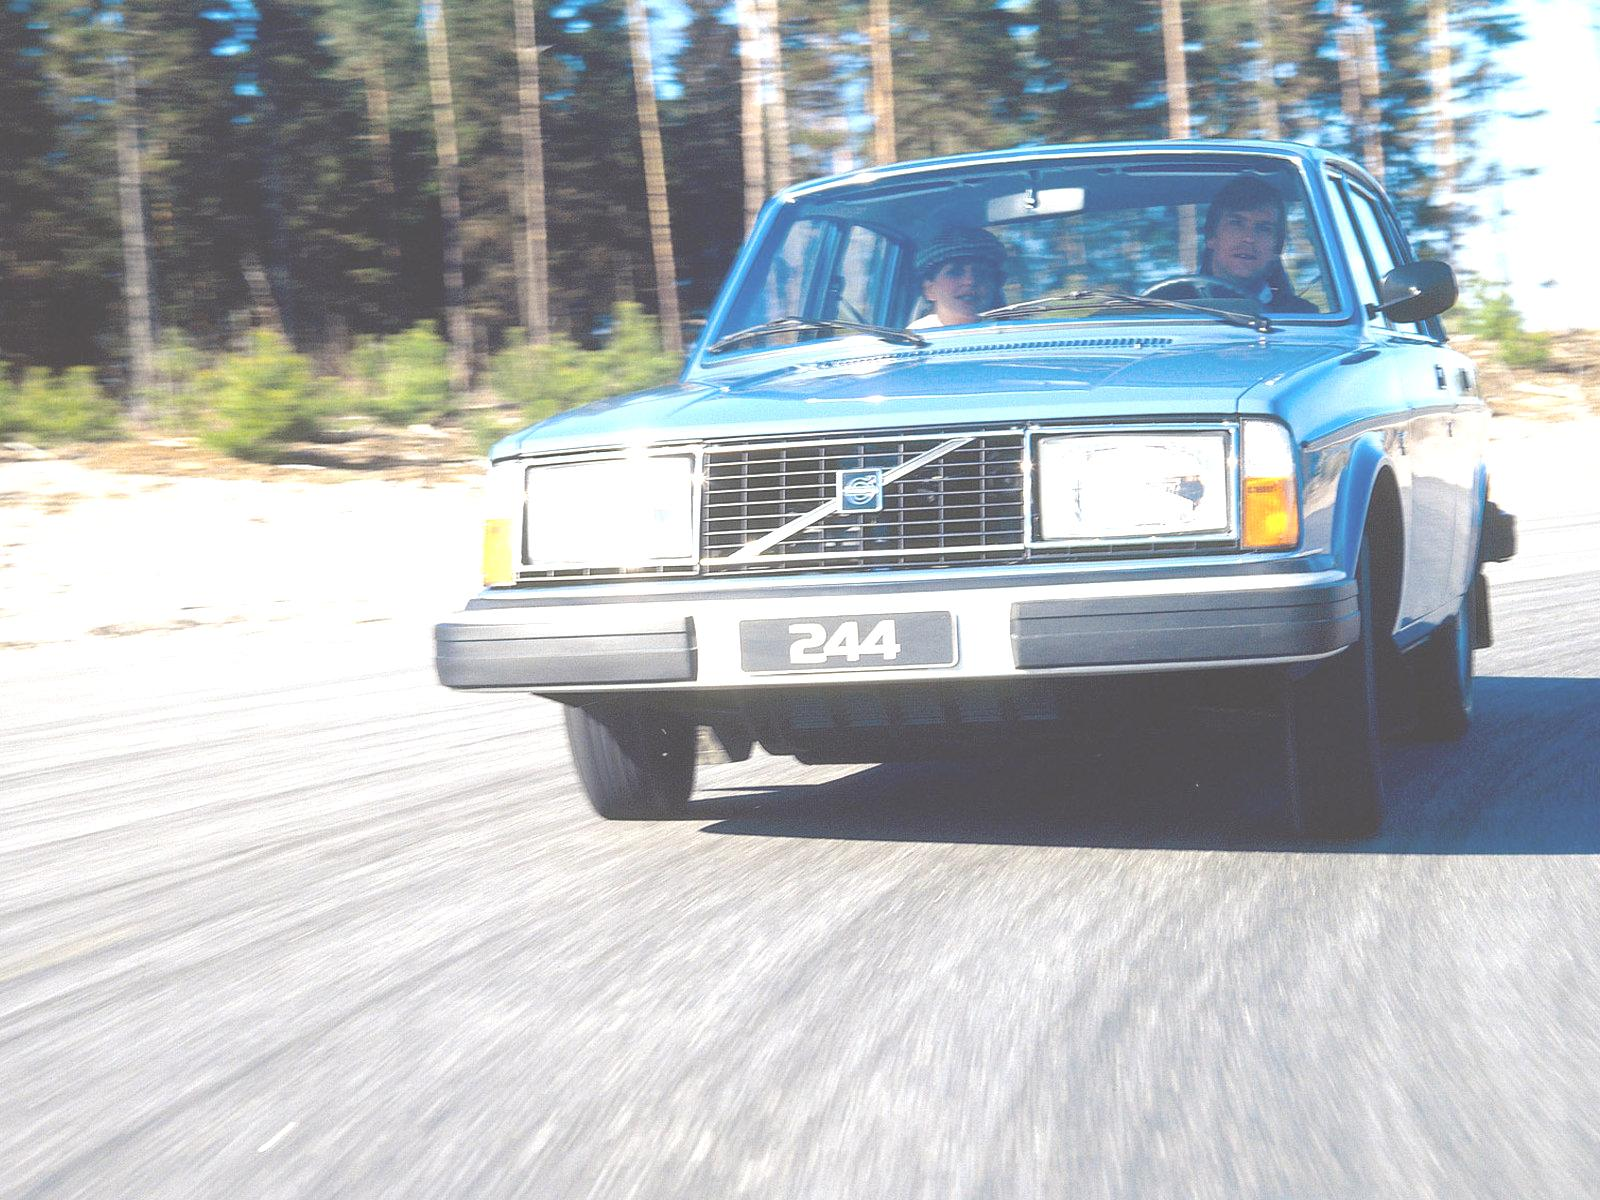volvo: (826, 450, 910, 537)
